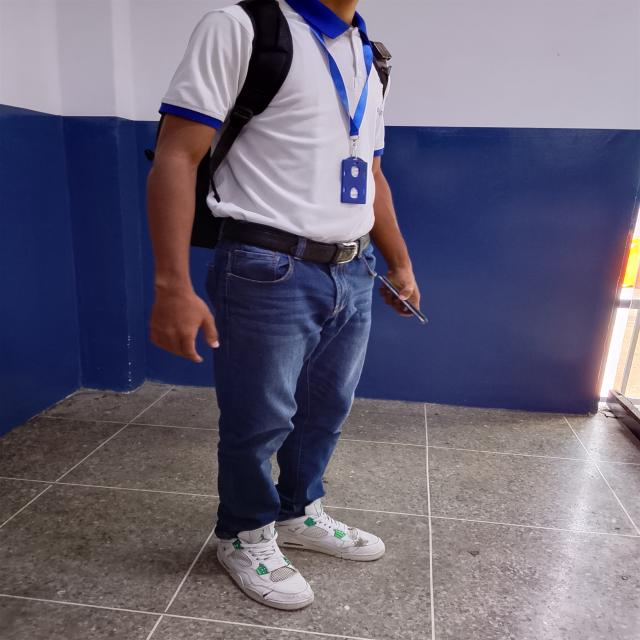carnet: (340, 159, 368, 204)
pantalon_oscuro: (204, 243, 377, 540)
uniforme_superior: (157, 0, 390, 243)
